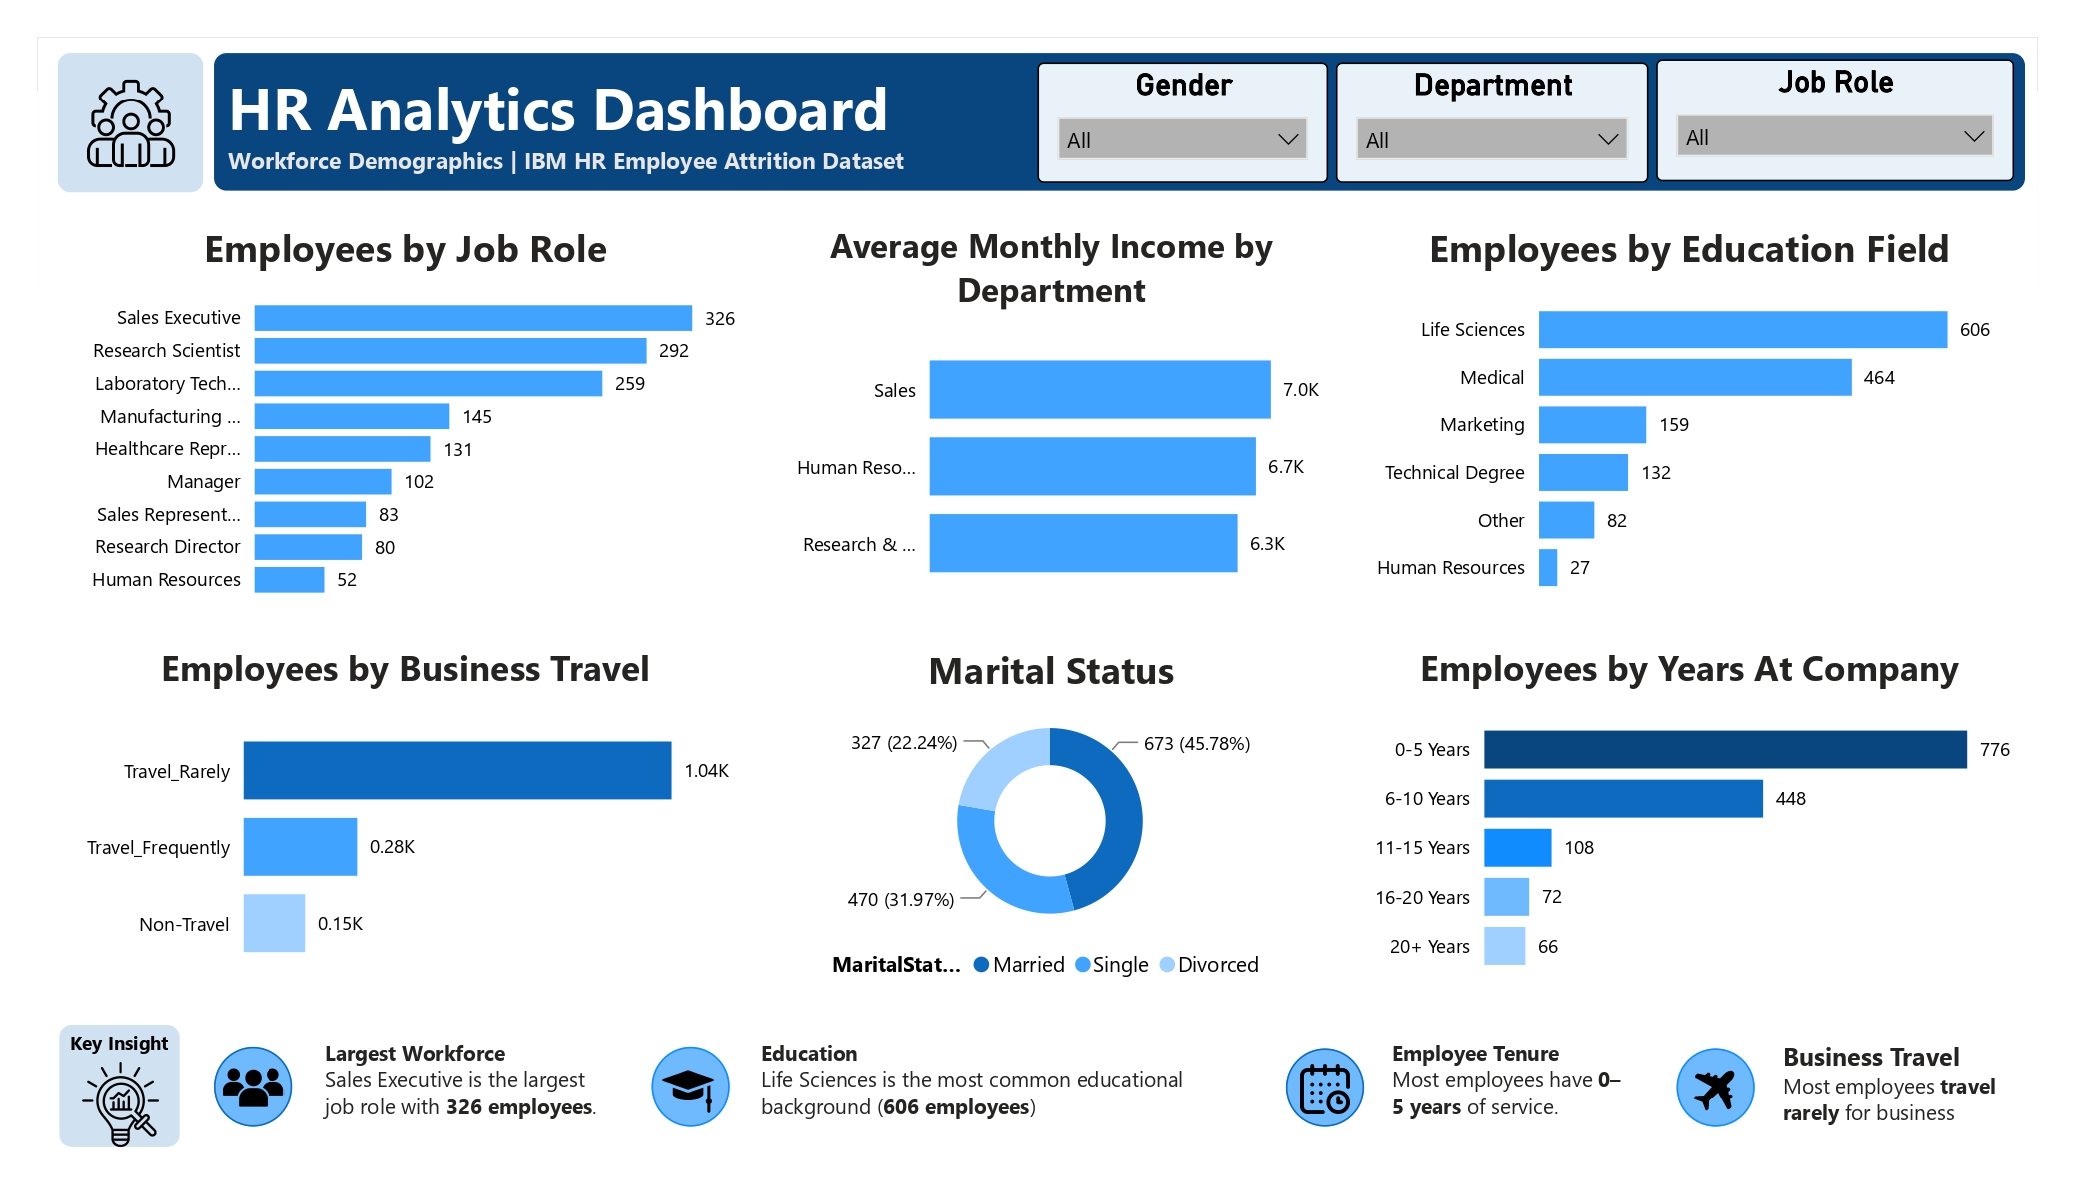

What the dashboard file says about the page in this screenshot:
{"tool":"powerbi","page":{"name":"Page 3","canvas":[1280,720],"ordinal":2},"visuals":[{"type":"textbox","box":[112.6,10.5,1159.9,87.7],"z":0},{"type":"textbox","box":[13.1,10.5,92.9,89],"z":1000},{"type":"image","box":[13.8,25,92.5,60],"z":2000},{"type":"slicer","title":"Gender","fields":{"Values":["Employee.Gender"]},"box":[640,15.7,185.7,77.1],"z":3000},{"type":"slicer","title":"Job Role","fields":{"Values":["Employee.JobRole"]},"box":[1036.4,13.6,228.2,78.2],"z":4000},{"type":"slicer","title":"Department","fields":{"Values":["Employee.Department"]},"box":[831.4,15.7,200,77.1],"z":5000},{"type":"textbox","box":[13.6,631.8,77.3,78.2],"z":6000},{"type":"textbox","box":[95,631.2,282.5,78.8],"z":7000},{"type":"textbox","box":[376.9,632.2,302.5,77.5],"z":8000},{"type":"textbox","box":[680,632.5,311.2,77.5],"z":9000},{"type":"textbox","box":[973.8,632.5,297.5,78.8],"z":10000},{"type":"image","title":"Key Insight","box":[15.8,635,73.4,74.9],"z":11000},{"type":"shape","box":[112.7,646.4,50,50.9],"z":12000},{"type":"shape","box":[395.5,646.4,50,50.9],"z":13000},{"type":"shape","box":[706.6,645.9,50,50.9],"z":14000},{"type":"shape","box":[1003.2,646.2,50,50.9],"z":15000},{"type":"image","box":[118,640,40,64],"z":16000},{"type":"image","box":[402,655,34,33],"z":17000},{"type":"image","box":[716,652,33,38],"z":18000},{"type":"image","box":[1010,653.4,34.6,38.9],"z":19000},{"type":"barChart","fields":{"Y":["Employee.Attrition Count"],"Category":["Employee.JobRole"]},"box":[15.7,110,442.9,282.9],"z":20000},{"type":"columnChart","title":"Attrition by Age Group","fields":{"Category":["Employee.Age Group"],"Y":["Employee.Attrition Count"]},"box":[15.7,392.9,442.9,228.6],"z":21000},{"type":"barChart","fields":{"Y":["Employee.Attrition Count"],"Category":["Employee.Years Group"]},"box":[852.9,110,418.6,282.9],"z":22000},{"type":"barChart","title":"Attrition by Education Field","fields":{"Category":["Employee.EducationField"],"Y":["Employee.Attrition Count"]},"box":[458.6,110,394.3,282.9],"z":23000},{"type":"donutChart","fields":{"Category":["Employee.OverTime"],"Y":["Employee.Attrition Count"]},"box":[458.6,392.9,394.3,228.6],"z":24000},{"type":"clusteredColumnChart","fields":{"Y":["Employee.Attrition Count"],"Category":["Employee.Income Group"]},"box":[852.9,392.9,420,228.6],"z":25000}]}

Visuals, with their boxes on the page's 1280x720 design canvas (x1, y1, x2, y2). These are canvas units, not pixel positions in the 2075x1200 screenshot, which may show the page scaled, cropped or inside an application window:
textbox: rect(113, 10, 1272, 98)
textbox: rect(13, 10, 106, 100)
image: rect(14, 25, 106, 85)
"Gender" slicer: rect(640, 16, 826, 93)
"Job Role" slicer: rect(1036, 14, 1265, 92)
"Department" slicer: rect(831, 16, 1031, 93)
textbox: rect(14, 632, 91, 710)
textbox: rect(95, 631, 378, 710)
textbox: rect(377, 632, 679, 710)
textbox: rect(680, 632, 991, 710)
textbox: rect(974, 632, 1271, 711)
"Key Insight" image: rect(16, 635, 89, 710)
shape: rect(113, 646, 163, 697)
shape: rect(396, 646, 446, 697)
shape: rect(707, 646, 757, 697)
shape: rect(1003, 646, 1053, 697)
image: rect(118, 640, 158, 704)
image: rect(402, 655, 436, 688)
image: rect(716, 652, 749, 690)
image: rect(1010, 653, 1045, 692)
barChart - Employee.Attrition Count x Employee.JobRole: rect(16, 110, 459, 393)
"Attrition by Age Group" columnChart: rect(16, 393, 459, 622)
barChart - Employee.Attrition Count x Employee.Years Group: rect(853, 110, 1272, 393)
"Attrition by Education Field" barChart: rect(459, 110, 853, 393)
donutChart - Employee.OverTime x Employee.Attrition Count: rect(459, 393, 853, 622)
clusteredColumnChart - Employee.Attrition Count x Employee.Income Group: rect(853, 393, 1273, 622)
